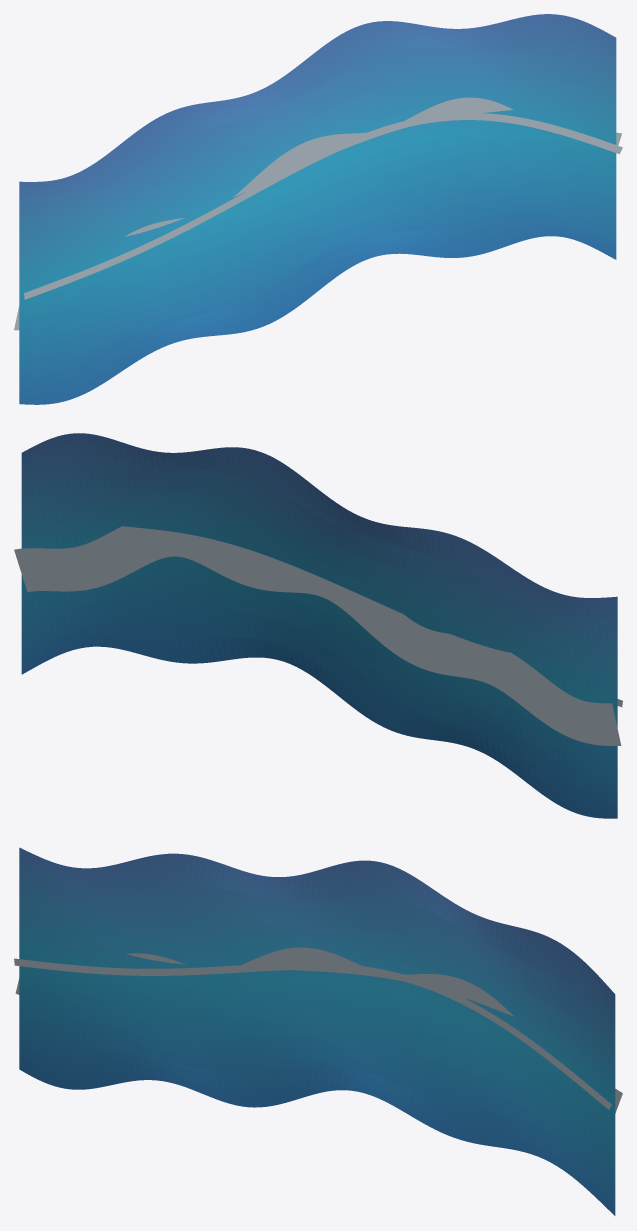
File: Tartaglia_HavocMelee_MainOnly_OneGroupMeleeWater.fbx
3 renders of one model, top to bottom at view 1: azimuth 30°, elevation 25°; view 2: azimuth 150°, elevation 25°; view 3: azimuth 330°, elevation 25°, orthographic.
Visible parts, largest first — view 1: PART_OneWholeGroupHydroMeleeBody, PART_OneSharpMeleeBladeEdge, PART_OneContinuousMeleeWaterWake; view 2: PART_OneWholeGroupHydroMeleeBody, PART_OneContinuousMeleeWaterWake; view 3: PART_OneWholeGroupHydroMeleeBody, PART_OneSharpMeleeBladeEdge, PART_OneContinuousMeleeWaterWake.
Boxes of the visible parts, <box> form: PART_OneWholeGroupHydroMeleeBody: <box>19,14,616,404</box>; PART_OneSharpMeleeBladeEdge: <box>24,113,622,299</box>; PART_OneContinuousMeleeWaterWake: <box>14,97,621,330</box>; PART_OneWholeGroupHydroMeleeBody: <box>21,433,617,818</box>; PART_OneContinuousMeleeWaterWake: <box>14,526,621,745</box>; PART_OneWholeGroupHydroMeleeBody: <box>19,847,615,1215</box>; PART_OneSharpMeleeBladeEdge: <box>14,958,611,1109</box>; PART_OneContinuousMeleeWaterWake: <box>15,947,622,1113</box>.
Bounding box in the file's own units: 854 × 395 × 40.
